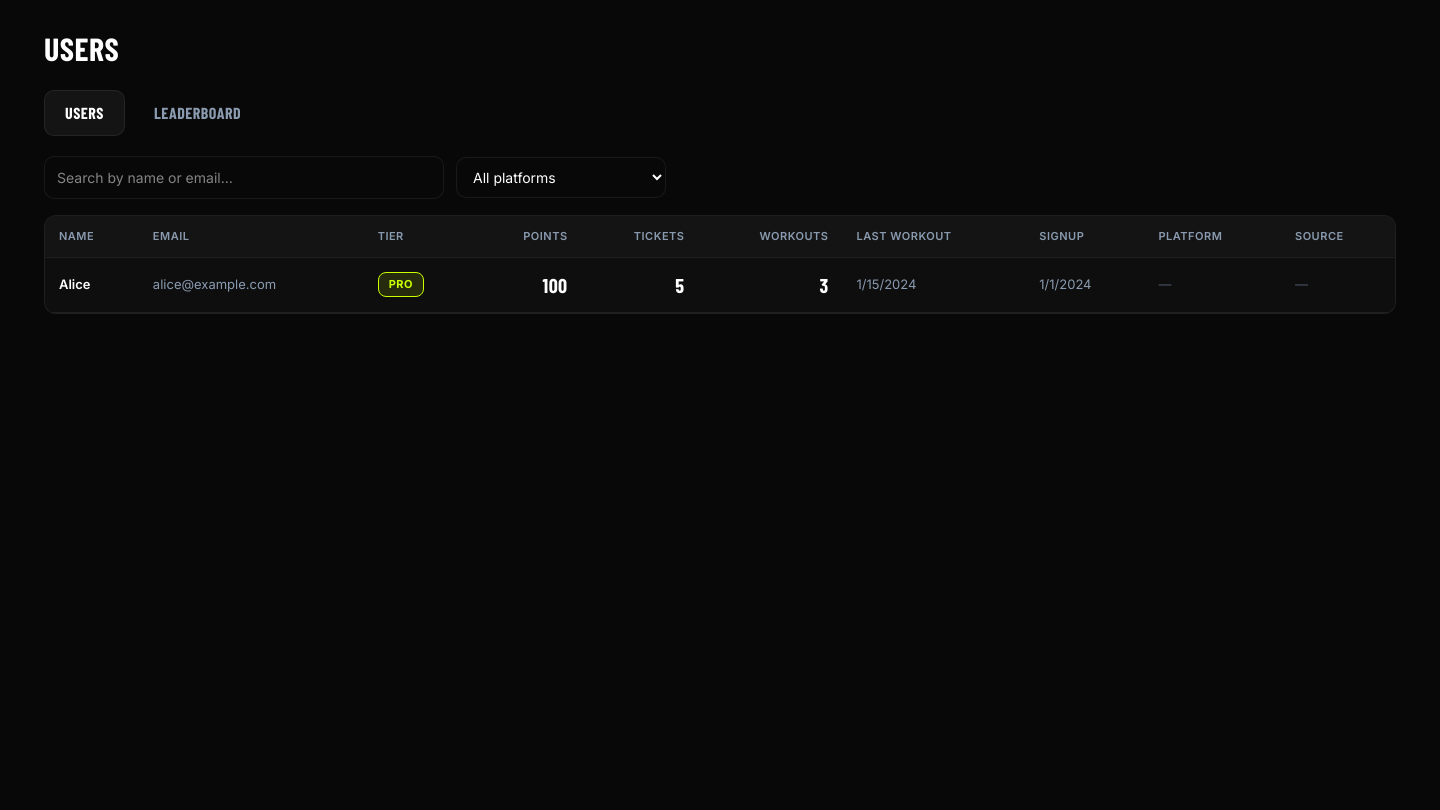
UsersPage - time-limited tier grants › warns that a duration replaces an open-ended grant
Click the text "Alice" at (720,284), box x1=45 y1=257 x2=1395 y2=312
(page scrolled)
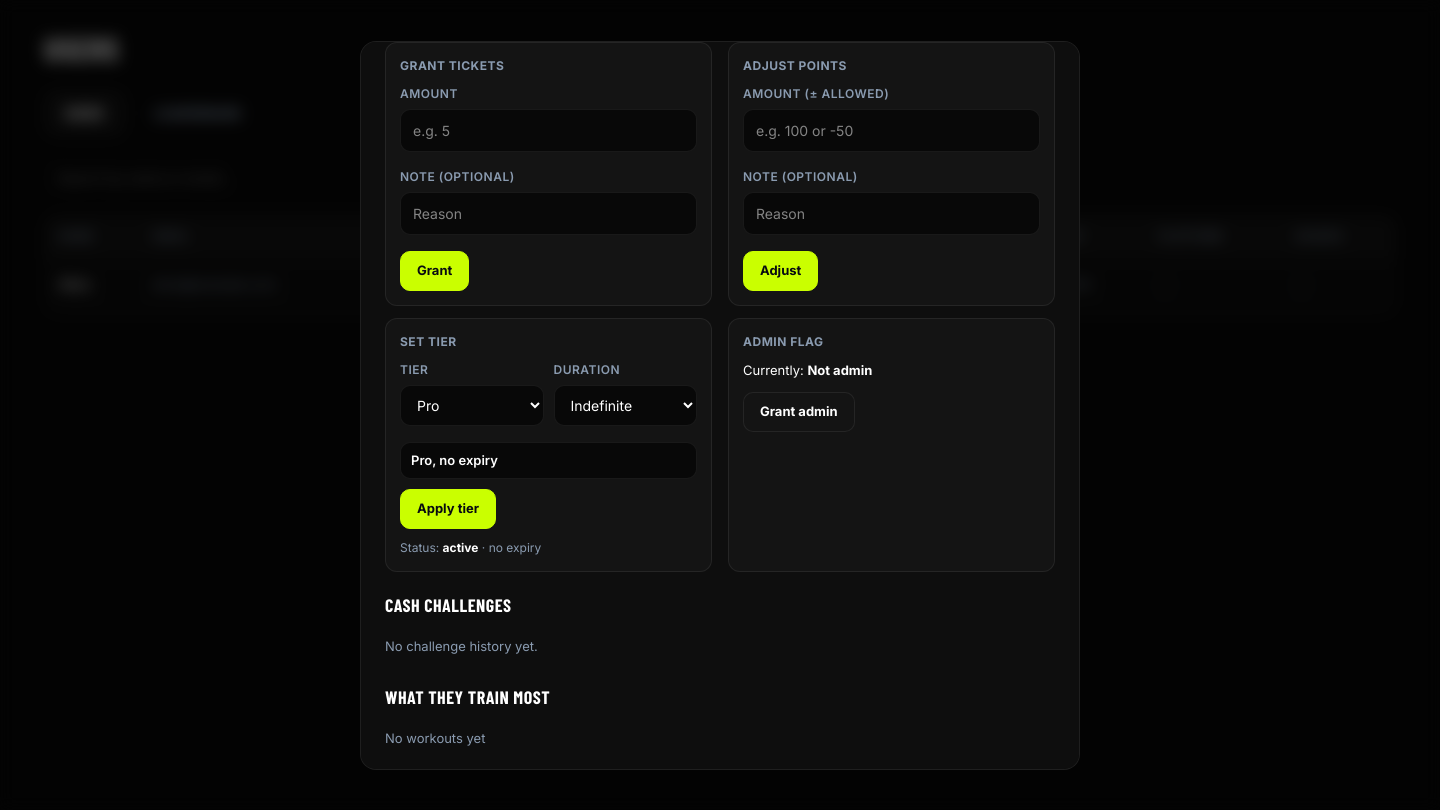
Select "3 months" in the dropdown labelled "Duration" at (625,405), box x1=554 y1=384 x2=697 y2=426
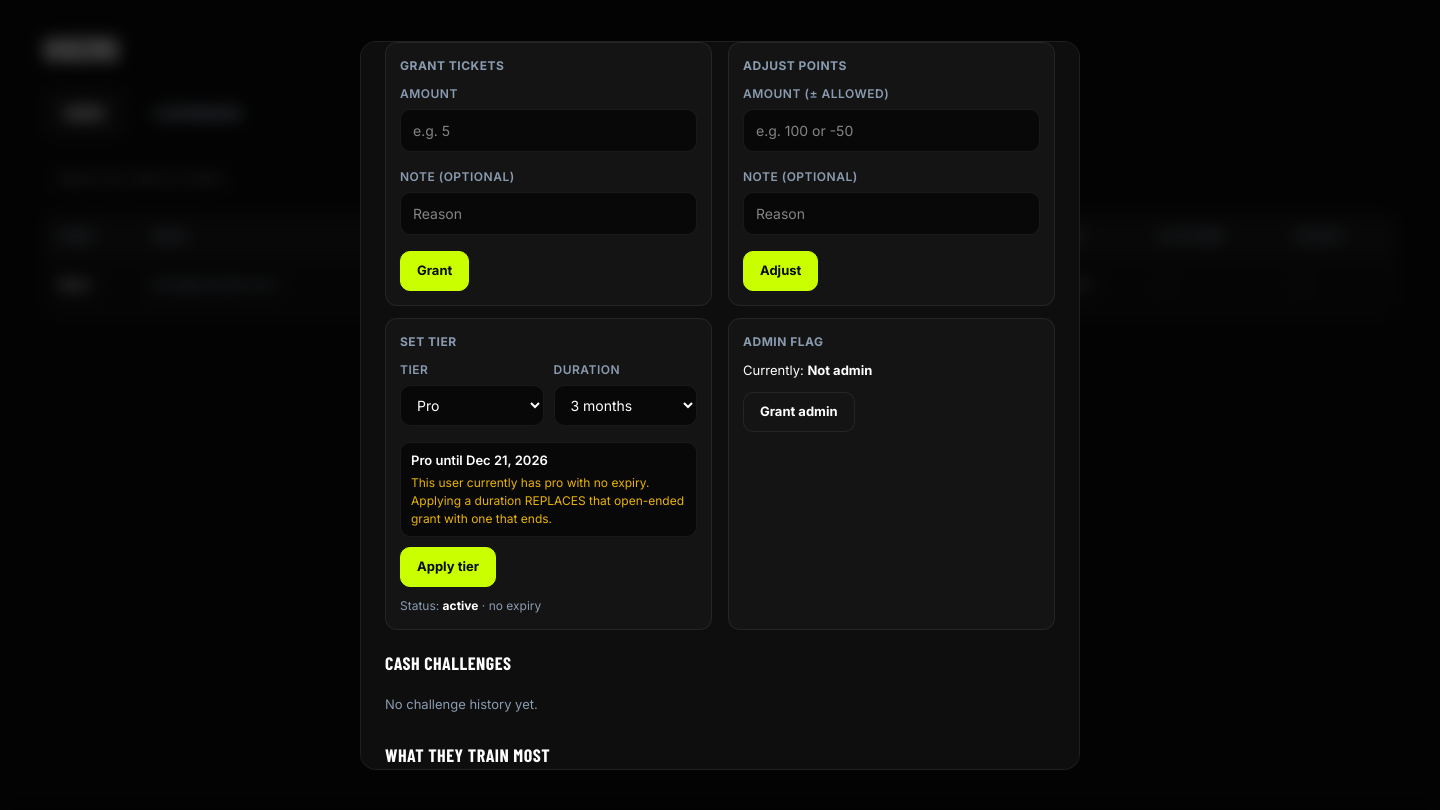
expect the text "REPLACES that open-ended grant" is shown: met, box x1=411 y1=475 x2=684 y2=526
